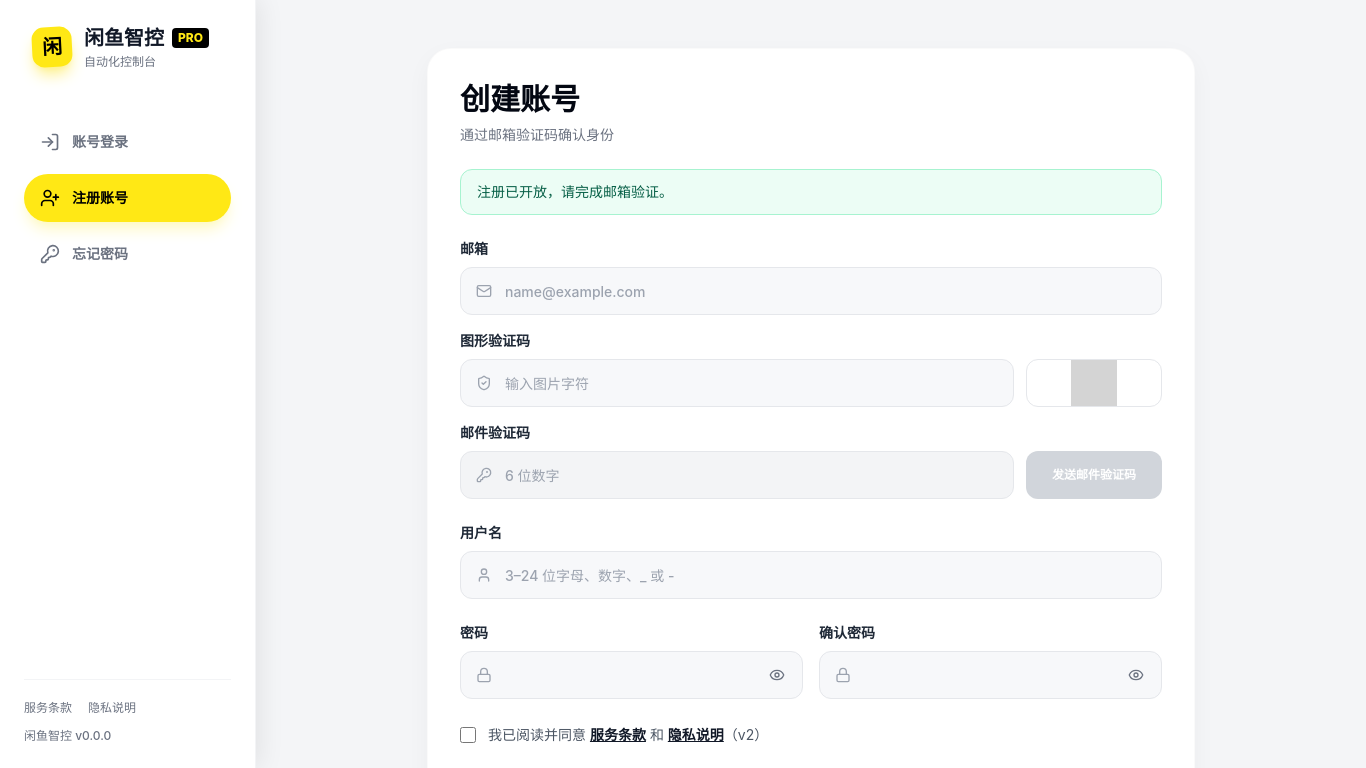
Test case: AuthPortal › keeps the current CAPTCHA after a wrong answer and clears only its input
In the field labelled "邮箱": (811, 291) [460,267,1162,315], type "pilot@example.com"
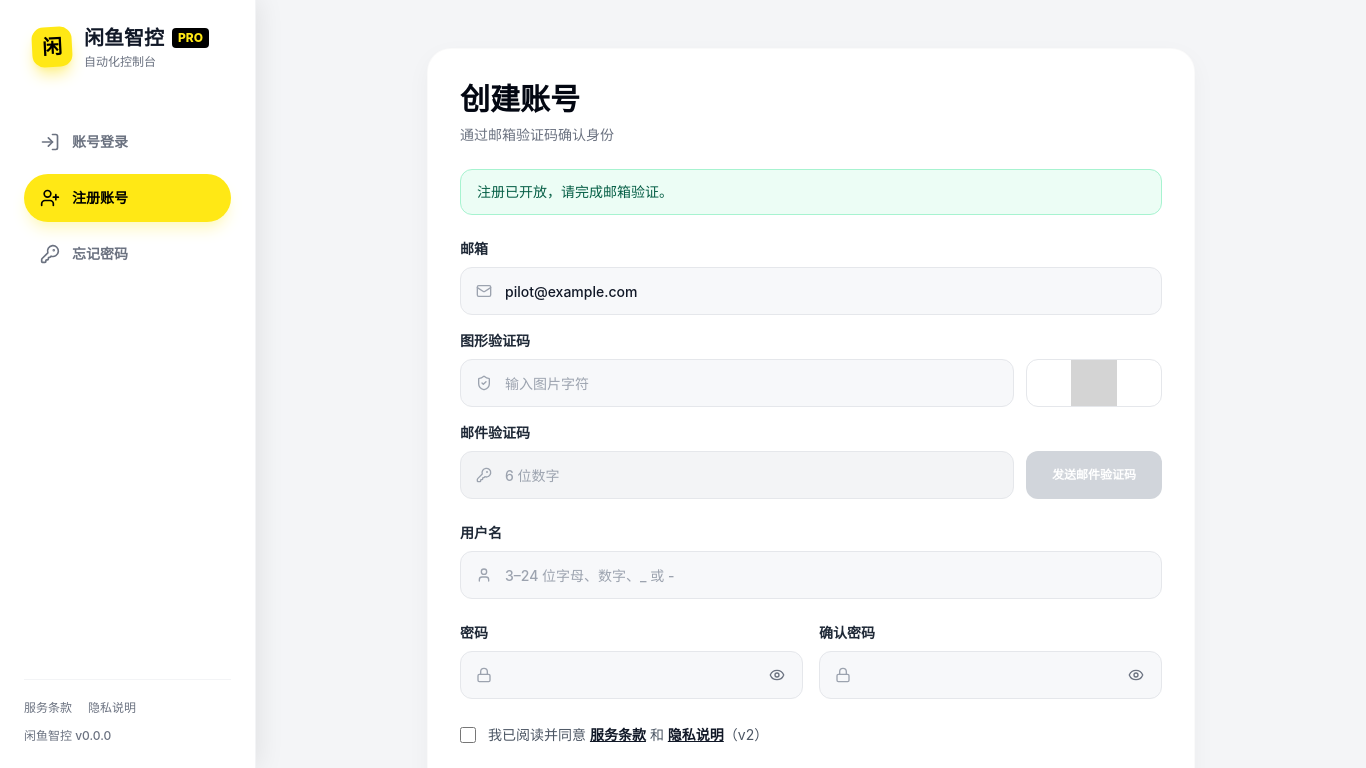
In the field labelled "图形验证码": (737, 383) [460,359,1014,407], type "WRONG"
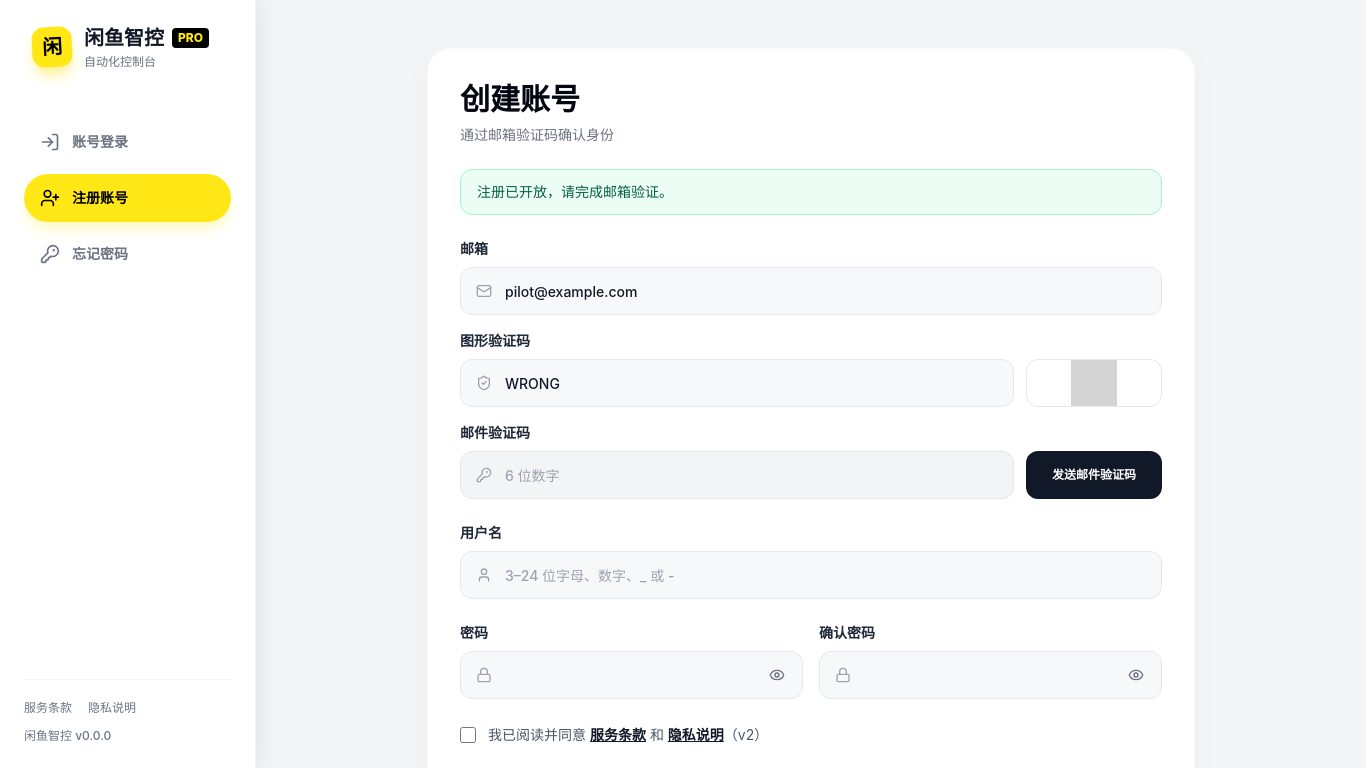
Click the button "发送邮件验证码": click(1094, 475) [1026,451,1162,499]
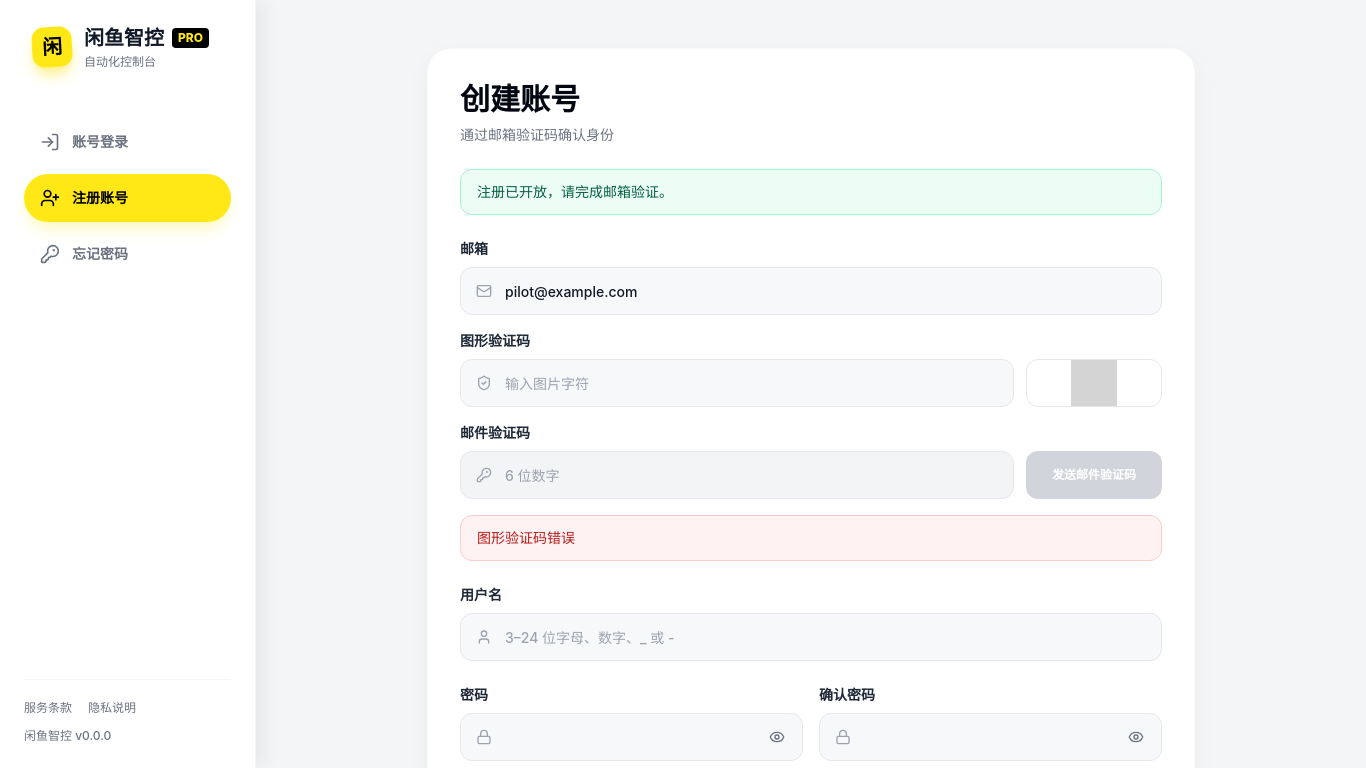
Check: the text "图形验证码错误" is shown, box [460,515,1162,561]
Check: the field labelled "图形验证码" is empty, box [460,359,1014,407]
